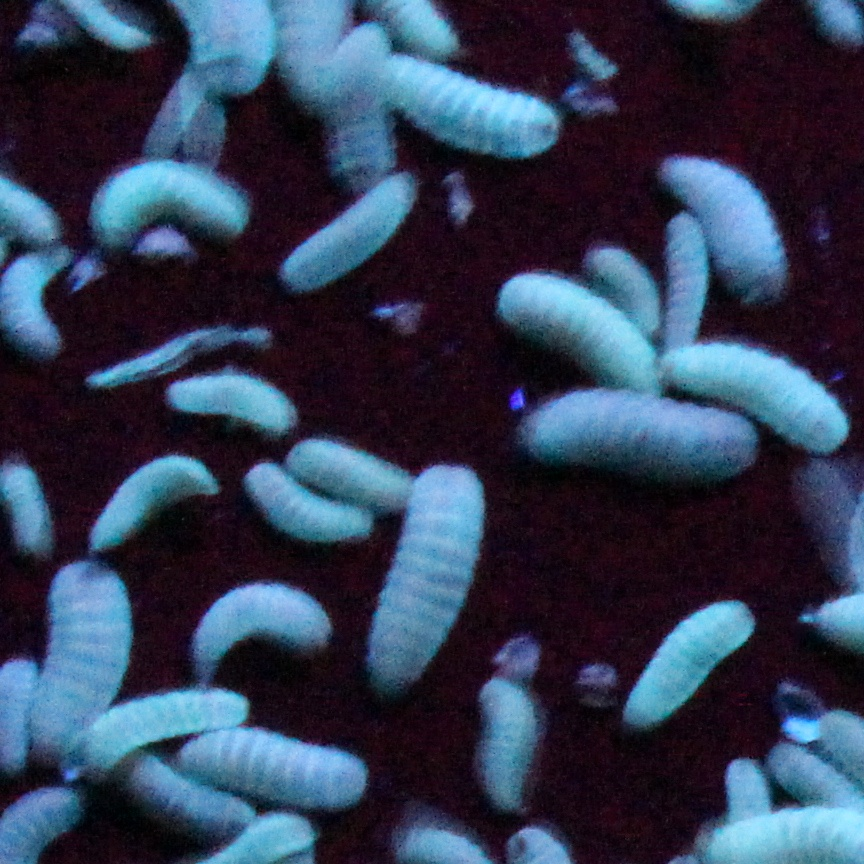larve: (372, 463, 486, 690), (33, 549, 131, 783), (656, 333, 847, 453), (520, 385, 767, 476), (363, 53, 572, 158), (661, 144, 799, 301), (613, 594, 758, 733), (495, 269, 661, 388), (272, 167, 422, 290), (172, 728, 388, 810), (317, 10, 402, 192), (81, 456, 233, 551), (88, 160, 258, 240), (81, 688, 252, 767), (242, 458, 379, 544), (195, 583, 333, 667), (129, 751, 263, 822), (158, 367, 304, 431), (286, 440, 413, 506), (583, 238, 665, 338), (663, 203, 713, 344), (486, 672, 536, 813), (729, 753, 765, 817)
